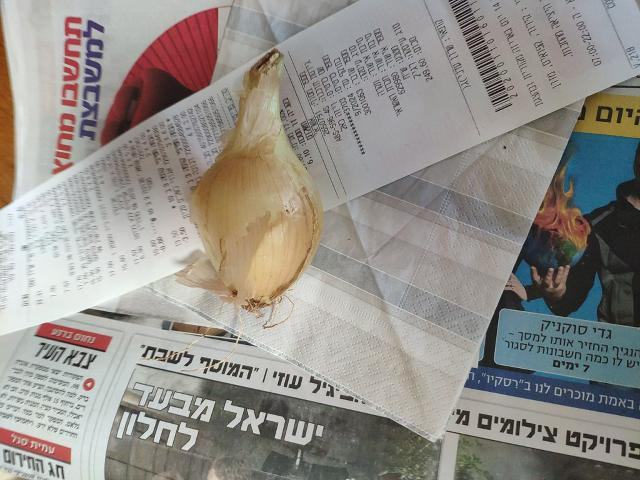onion: (199, 123, 331, 308)
